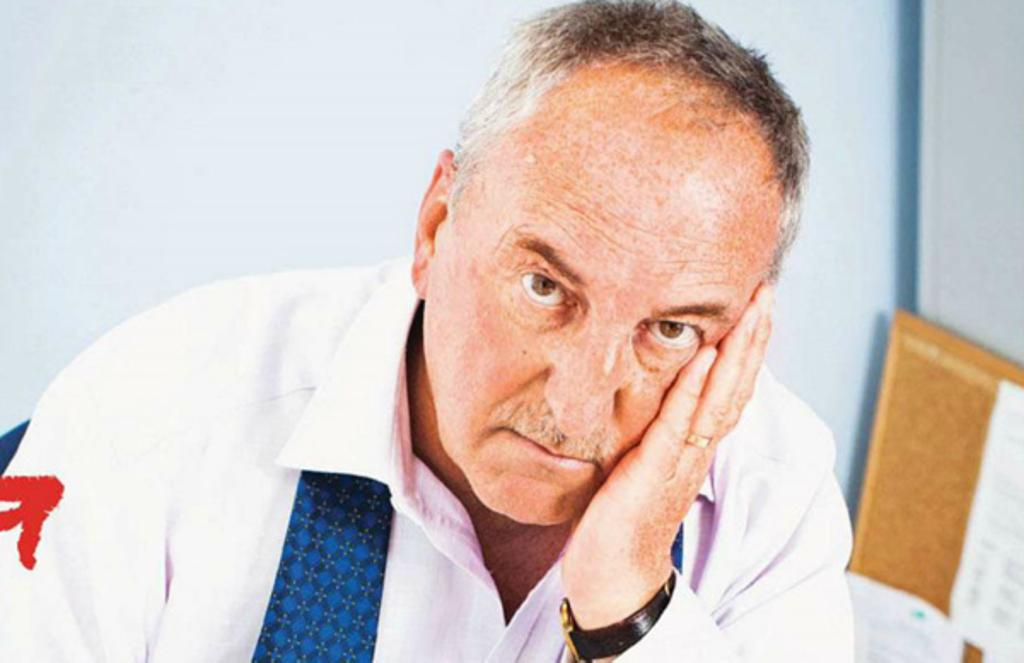face: (424, 58, 776, 524)
